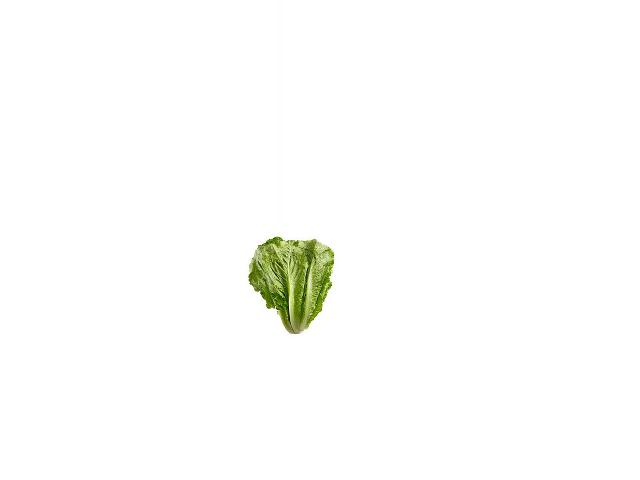lettuce: (245, 235, 330, 339)
